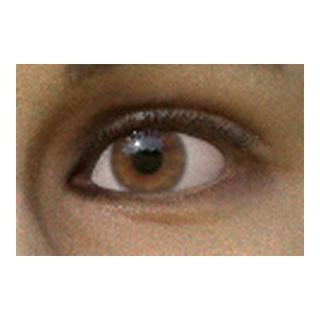pupil: (133, 144, 162, 173)
